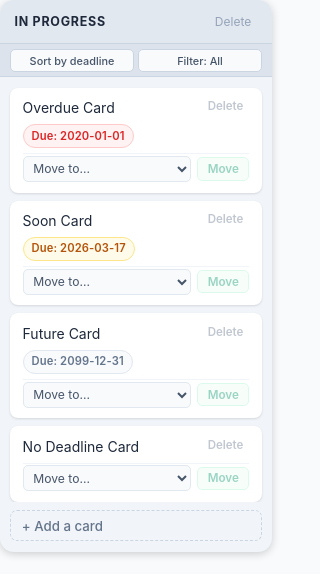
Test: ListColumn — filter cards (Task D) › "Due soon" filter shows only cards due today
Expected: the text "Overdue Card" is shown, [23,99,115,116]
Click the button "Filter: All": coordinates (200, 61) [138,49,262,72]
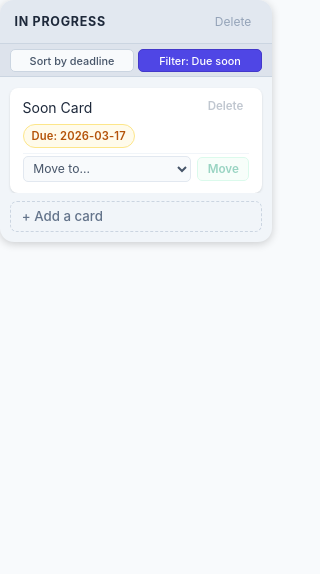
Result: the button "Filter: Due soon" is shown at [138,49,262,72]
Result: the text "Overdue Card" is gone
Result: the text "Future Card" is gone
